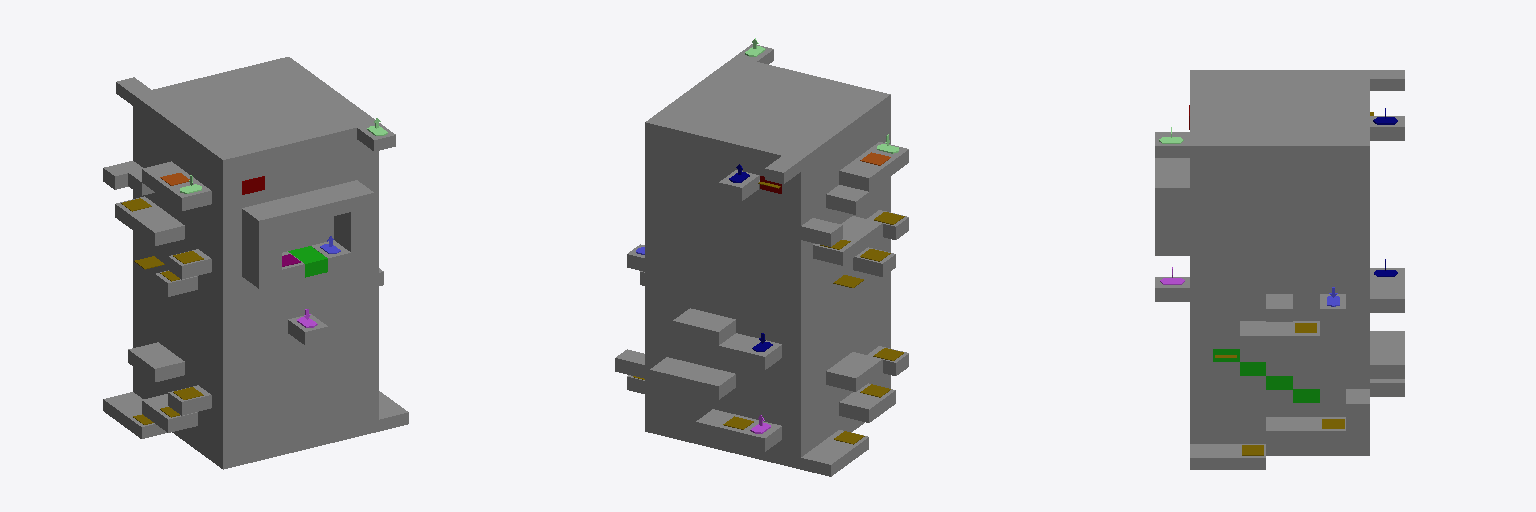
File: Prehistoric_Level_With_Mechanics.obj
The picture shows the model from 3 angles: view 1: azimuth 30°, elevation 25°; view 2: azimuth 150°, elevation 25°; view 3: azimuth 270°, elevation 25°; orthographic projection.
Parts seen in each view (by area): view 1: FINAL_level_Base001, Box016; view 2: FINAL_level_Base001; view 3: FINAL_level_Base001.
Part boxes in pixels (left/top/right/bottom): FINAL_level_Base001: left=103, top=57, right=408, bottom=469; Box016: left=288, top=246, right=327, bottom=277; FINAL_level_Base001: left=615, top=44, right=908, bottom=476; FINAL_level_Base001: left=1155, top=70, right=1404, bottom=469.
Size of the model in its own units: 194 by 278 by 194.